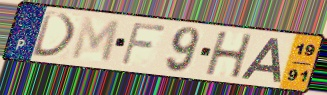9: (163, 25, 204, 74)
A: (239, 36, 283, 84)
D: (29, 10, 78, 60)
F: (118, 20, 169, 67)
H: (204, 30, 255, 79)
M: (68, 15, 122, 65)
